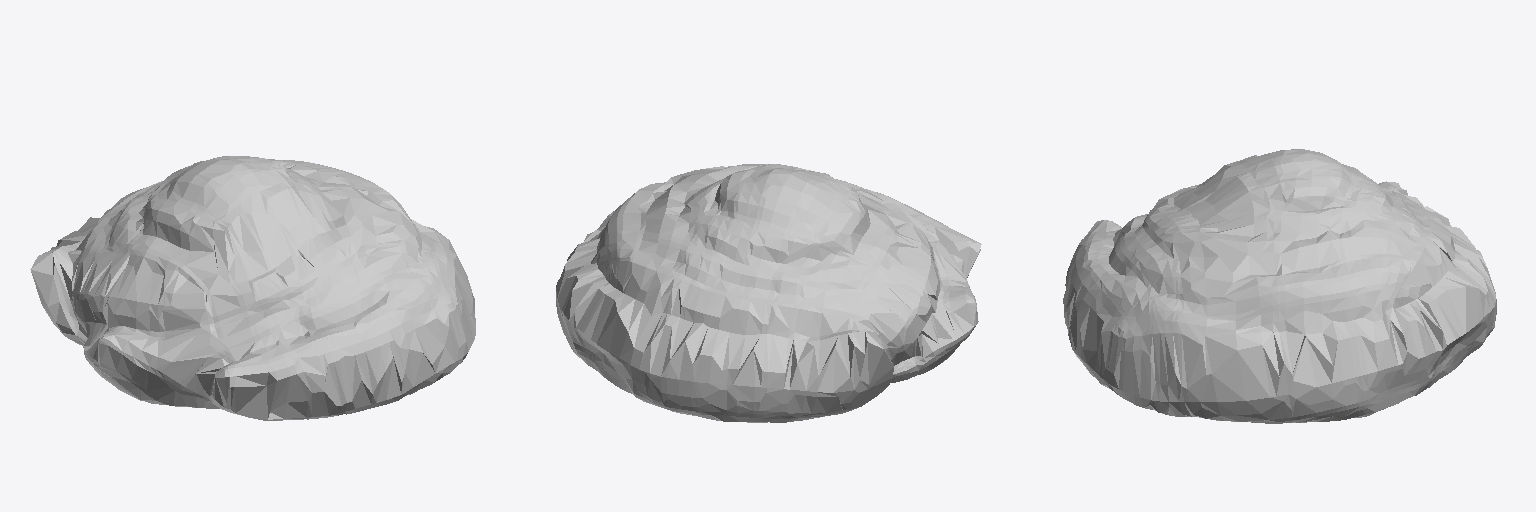
File: cinnamon7.obj
3 renders of one model, left to right at view 1: azimuth 30°, elevation 25°; view 2: azimuth 150°, elevation 25°; view 3: azimuth 270°, elevation 25°, orthographic.
Visible parts, largest first — view 1: pasted__pasted__polySurface4176 croissant5k30:croissant5k20:Mesh; view 2: pasted__pasted__polySurface4176 croissant5k30:croissant5k20:Mesh; view 3: pasted__pasted__polySurface4176 croissant5k30:croissant5k20:Mesh.
Boxes of the visible parts, box(x1,y1,x2,y2) form: pasted__pasted__polySurface4176 croissant5k30:croissant5k20:Mesh: box(30, 156, 475, 420); pasted__pasted__polySurface4176 croissant5k30:croissant5k20:Mesh: box(556, 164, 981, 422); pasted__pasted__polySurface4176 croissant5k30:croissant5k20:Mesh: box(1063, 149, 1496, 423).
Size of the model in its own units: 0.173 by 0.0806 by 0.1764.